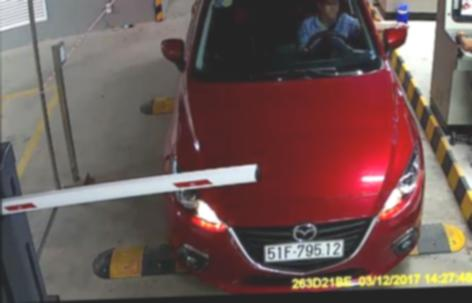License_Plate: (262, 237, 344, 263)
